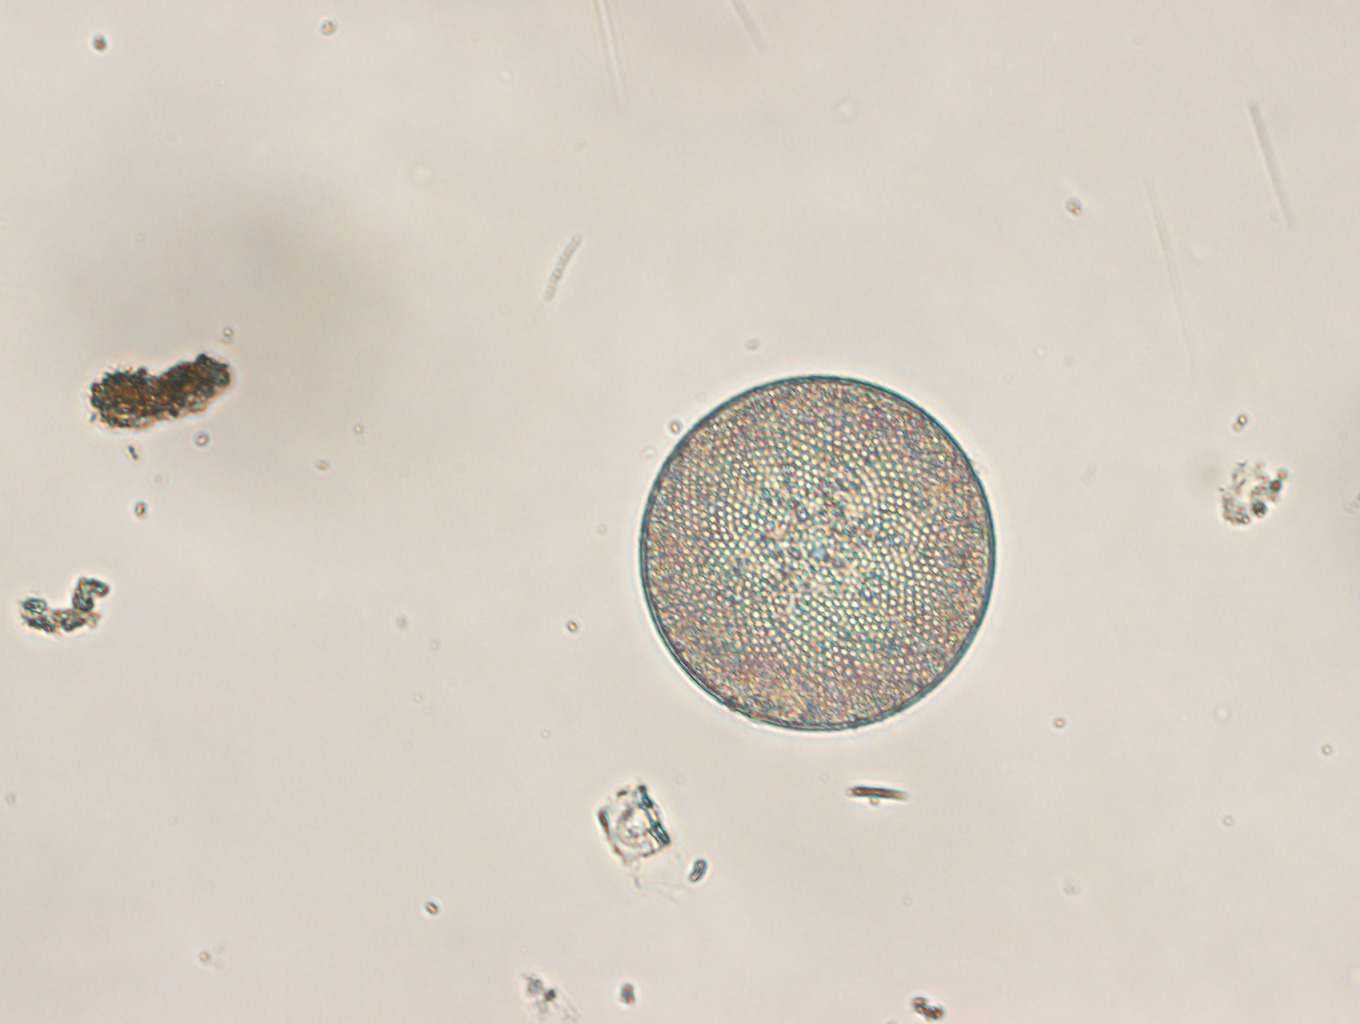coscinodiscus: (638, 372, 998, 735)
